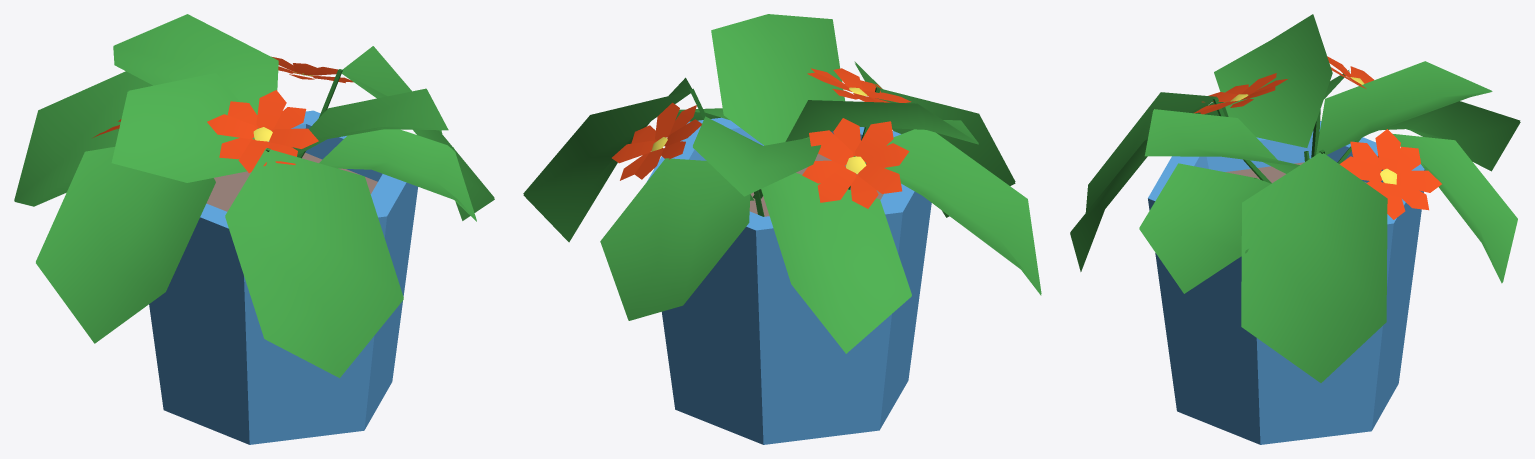
Rendered from Plants_M9.fbx.
3 views of the same model, side by side, from view 1: azimuth 30°, elevation 25°; view 2: azimuth 150°, elevation 25°; view 3: azimuth 270°, elevation 25° (orthographic). The views are drawn at different scales.
Visible parts, largest first — view 1: Plants_M9; view 2: Plants_M9; view 3: Plants_M9.
Part boxes in pixels (x1=…): Plants_M9: x1=14, y1=14, x2=494, y2=444; Plants_M9: x1=523, y1=14, x2=1041, y2=444; Plants_M9: x1=1070, y1=14, x2=1520, y2=444.
Bounding box in the file's own units: 0.2727 × 0.1915 × 0.2451.
Materials: 1 (1 with a texture image).
